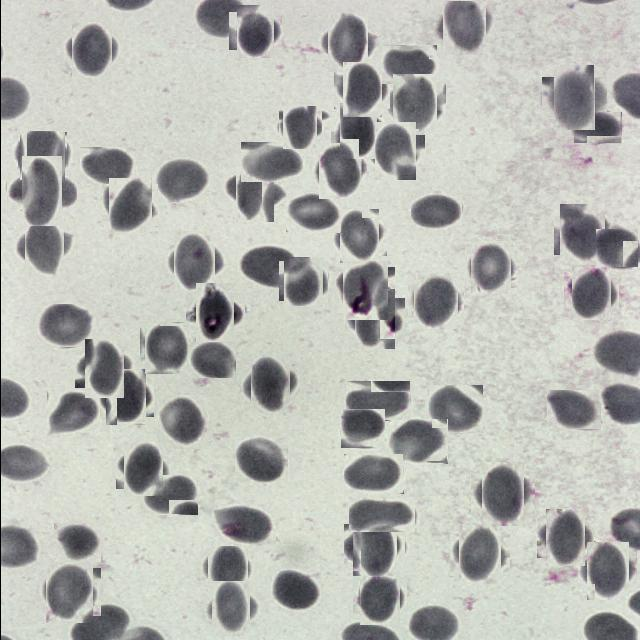red blood cell: (41, 564, 96, 620), (13, 163, 68, 218), (546, 70, 600, 124), (388, 78, 440, 132), (476, 466, 528, 520), (228, 163, 280, 216), (238, 245, 300, 289), (156, 396, 208, 448), (348, 520, 400, 572), (556, 206, 608, 258), (426, 385, 482, 433), (388, 419, 447, 464), (437, 0, 489, 51), (213, 504, 275, 546), (18, 220, 68, 272), (345, 381, 410, 421), (168, 236, 220, 286), (36, 304, 95, 348), (348, 294, 399, 344), (234, 437, 288, 484), (322, 18, 372, 68), (454, 530, 504, 580), (104, 180, 154, 230), (410, 276, 460, 326), (315, 146, 365, 196), (582, 546, 632, 596), (370, 126, 420, 176), (240, 142, 302, 182), (78, 343, 128, 392), (46, 390, 99, 436), (154, 158, 208, 203), (245, 359, 294, 408), (100, 372, 148, 422), (343, 454, 403, 494), (141, 324, 190, 372), (337, 65, 385, 114), (540, 514, 589, 562), (348, 497, 414, 532), (67, 26, 115, 74), (566, 268, 614, 316), (381, 45, 437, 85), (285, 193, 341, 233), (467, 244, 514, 291), (203, 545, 250, 592), (119, 446, 166, 493), (336, 212, 382, 260), (18, 132, 66, 178), (356, 574, 402, 622), (334, 108, 382, 154), (142, 475, 197, 515), (546, 390, 601, 430), (79, 147, 135, 186), (268, 569, 320, 611), (207, 586, 253, 632), (232, 8, 277, 54), (410, 190, 461, 230), (280, 259, 325, 303), (53, 523, 100, 562), (187, 341, 235, 378), (340, 409, 384, 448), (595, 229, 638, 268), (572, 112, 620, 144), (280, 108, 319, 147)
ring: (338, 264, 391, 316), (190, 288, 239, 337)
